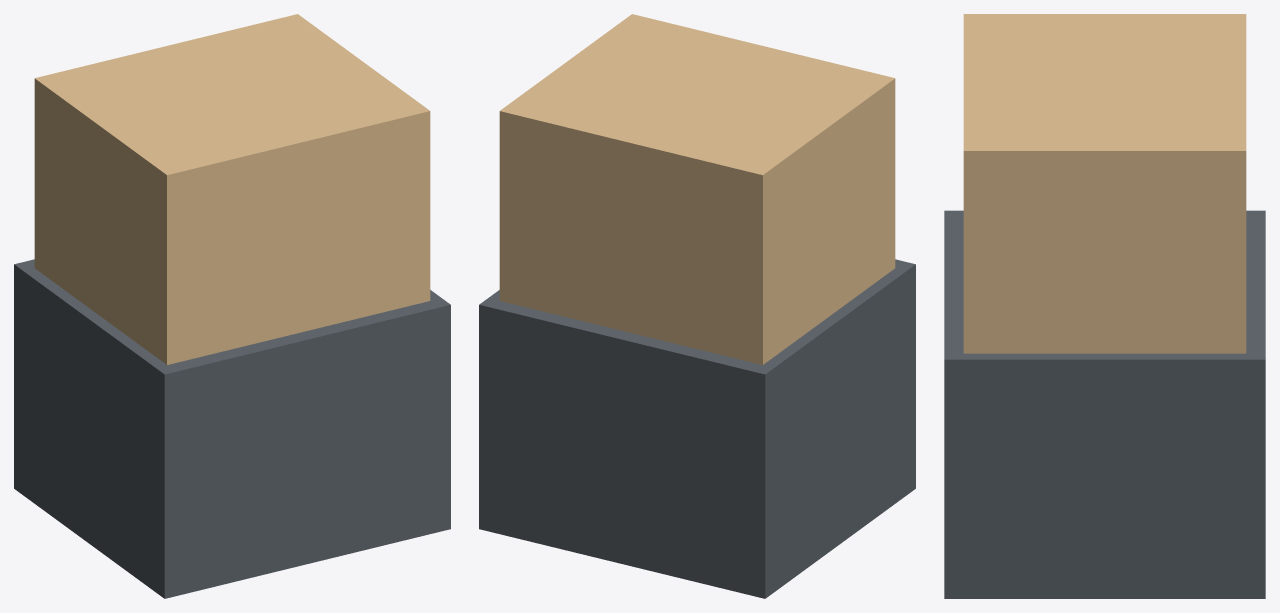
File: print___utility_office_asset_library_04.glb
3 views of the same model, side by side, from view 1: azimuth 30°, elevation 25°; view 2: azimuth 150°, elevation 25°; view 3: azimuth 270°, elevation 25° (orthographic). The views are drawn at different scales.
Visible parts, largest first — view 1: Cube; view 2: Cube; view 3: Cube.
Boxes of the visible parts, x1,y1,x2,y2 form: Cube: [14, 14, 450, 598]; Cube: [479, 14, 915, 598]; Cube: [944, 14, 1265, 598].
Bounding box in the file's own units: 0.7083 × 0.98 × 0.6458.
